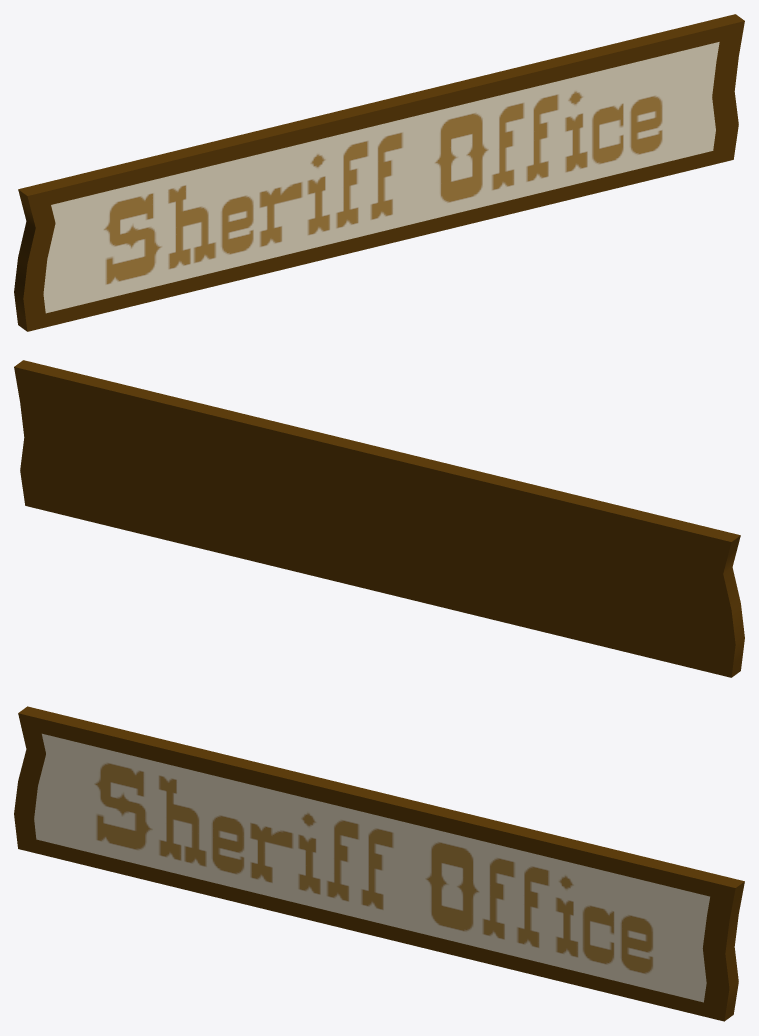
File: Store_Signs_Final.fbx
3 views of the same model, one above another, from view 1: azimuth 30°, elevation 25°; view 2: azimuth 150°, elevation 25°; view 3: azimuth 330°, elevation 25° (orthographic).
Parts seen in each view (by area): view 1: Store_Signs_Final; view 2: Store_Signs_Final; view 3: Store_Signs_Final.
Part boxes in pixels (x1=…): Store_Signs_Final: x1=14, y1=14, x2=744, y2=331; Store_Signs_Final: x1=14, y1=360, x2=744, y2=677; Store_Signs_Final: x1=14, y1=706, x2=744, y2=1021.
Size of the model in its own units: 3.07 by 0.5527 by 0.0689.
